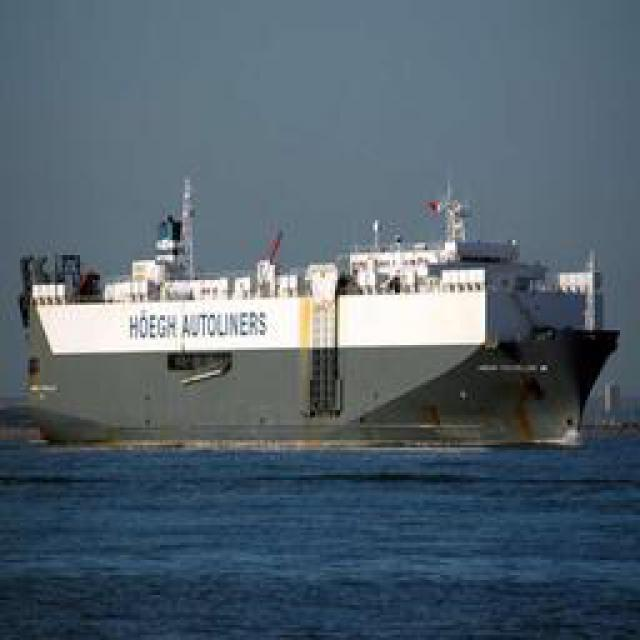Ship: (16, 162, 621, 450)
